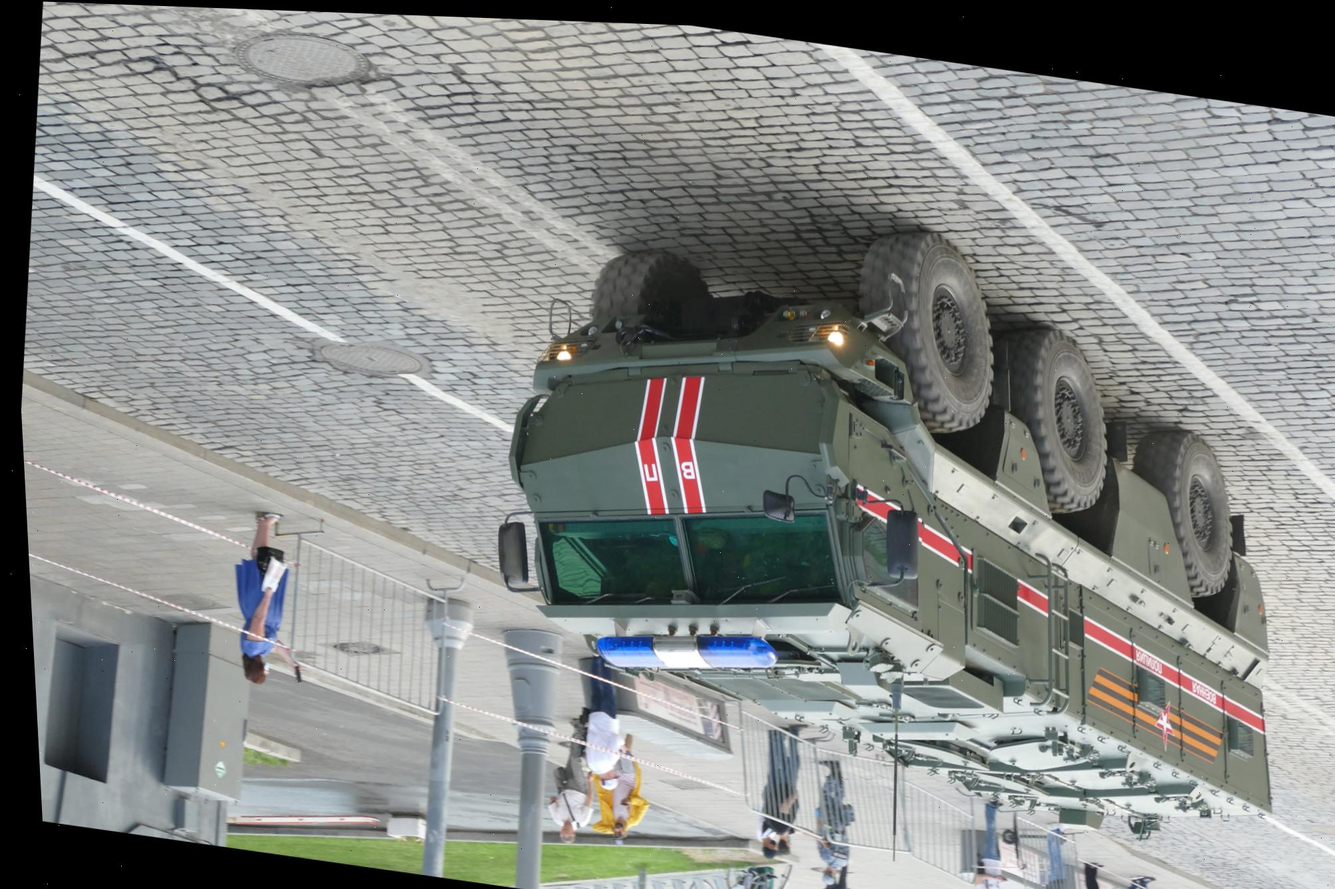truck: (456, 167, 1335, 874)
